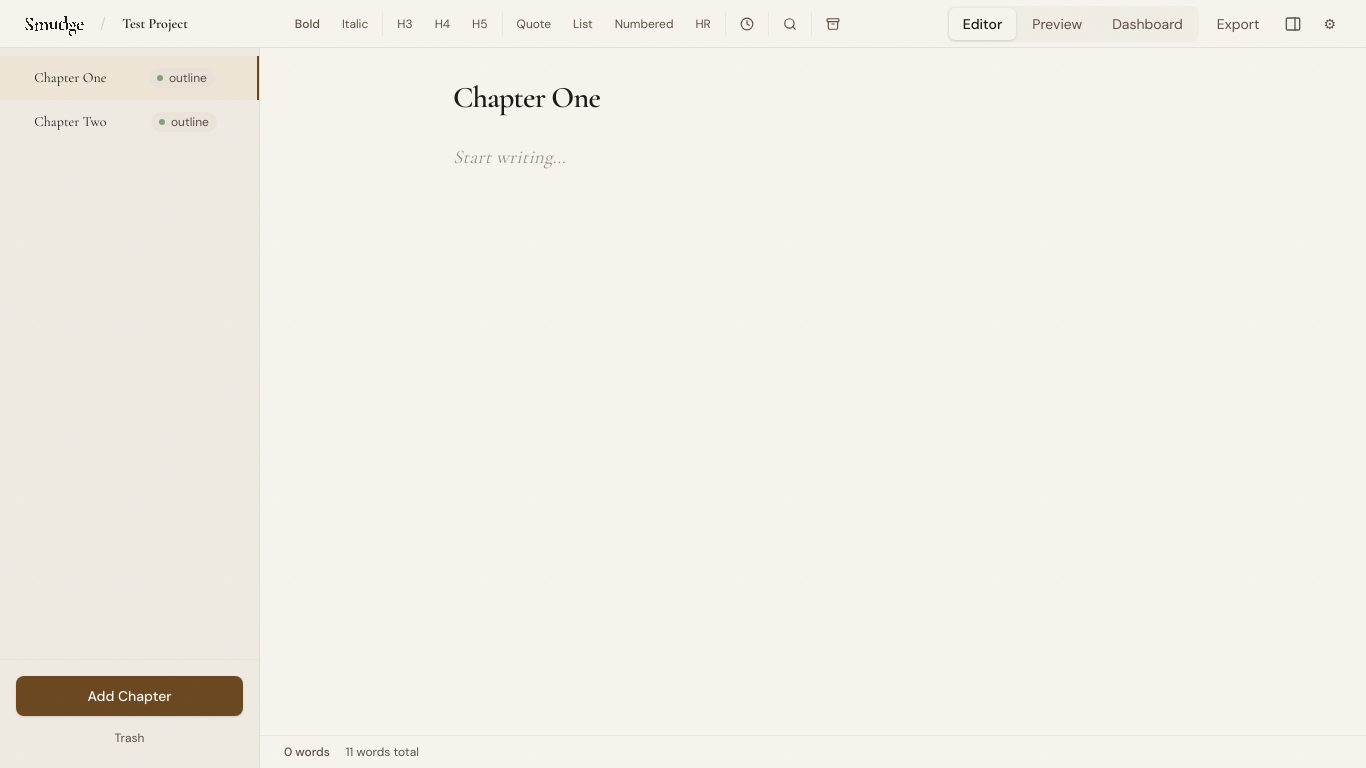
Test case: EditorPage trash view › closes trash view when selecting a chapter from sidebar
# Open trash view
Click the button "Trash" at {"x": 130, "y": 738}, box [16,724,243,752]
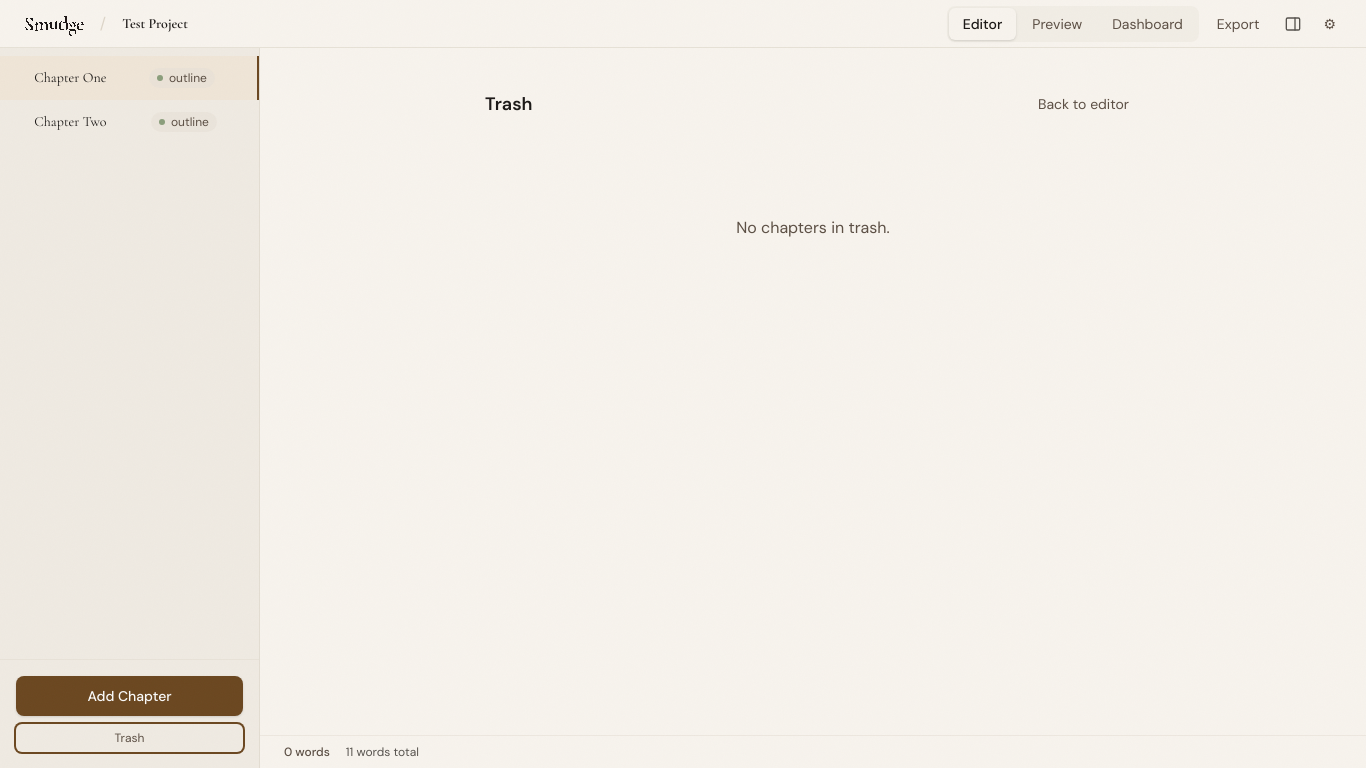
Expected: the text "No chapters in trash." is shown, [736,217,890,238]
# Click Chapter Two in the sidebar
Click the button "Chapter Two" at {"x": 89, "y": 122}, box [34,112,143,132]
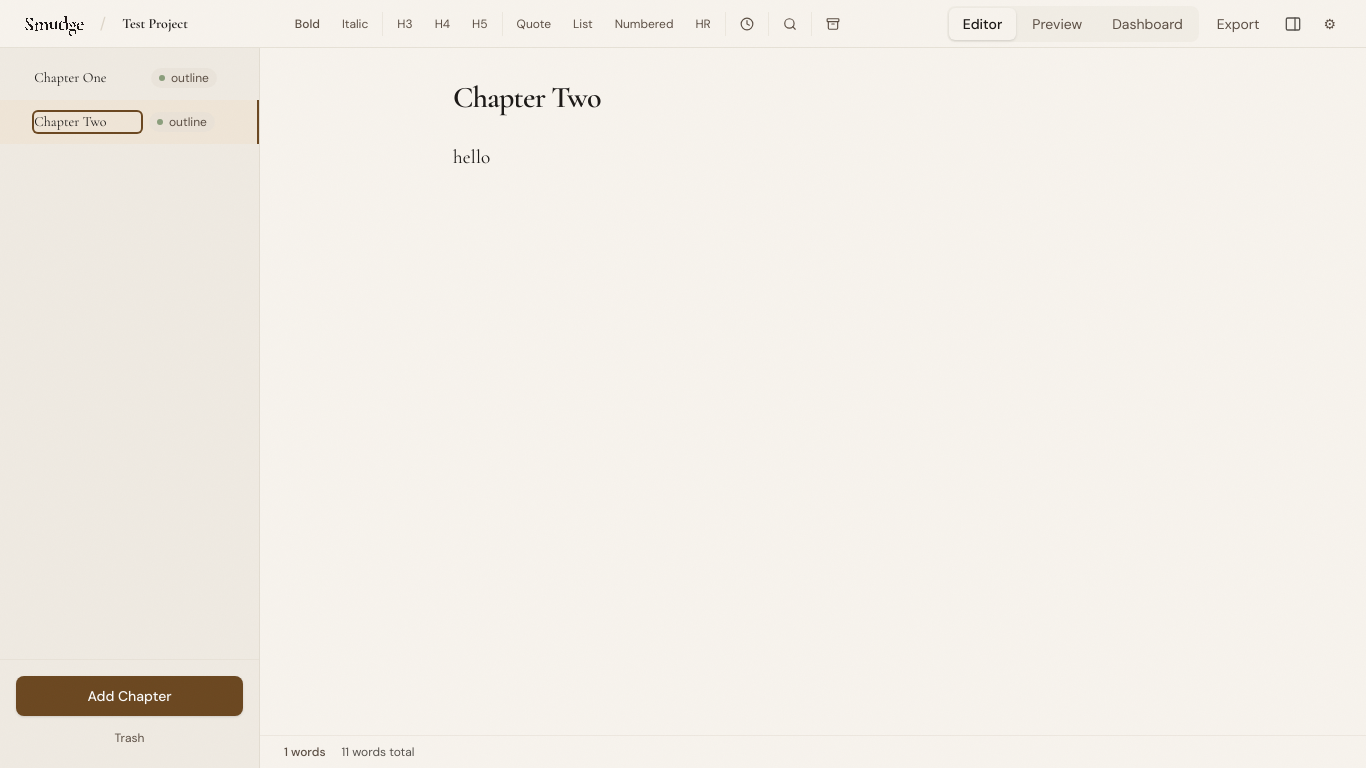
Expected: the text "No chapters in trash." is gone
Expected: the heading "Chapter Two" is shown, [453,79,601,116]
